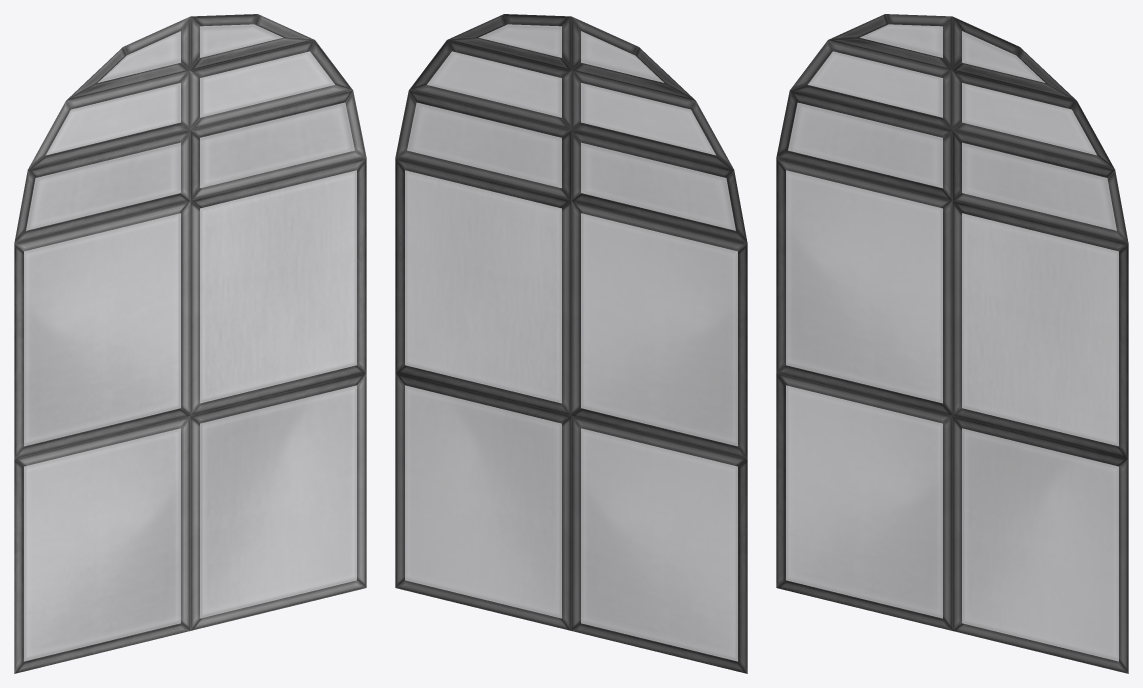
File: SM_SYD_Window01.fbx
The picture shows the model from 3 angles, left to right: view 1: azimuth 30°, elevation 25°; view 2: azimuth 150°, elevation 25°; view 3: azimuth 330°, elevation 25°; orthographic projection.
Visible parts, largest first — view 1: SM_SYD_Window01; view 2: SM_SYD_Window01; view 3: SM_SYD_Window01.
Boxes of the visible parts, x1,y1,x2,y2 form: SM_SYD_Window01: (14, 14, 366, 673); SM_SYD_Window01: (395, 14, 747, 673); SM_SYD_Window01: (776, 14, 1128, 673).
Size of the model in its own units: 225 by 375 by 2.39e-05.
